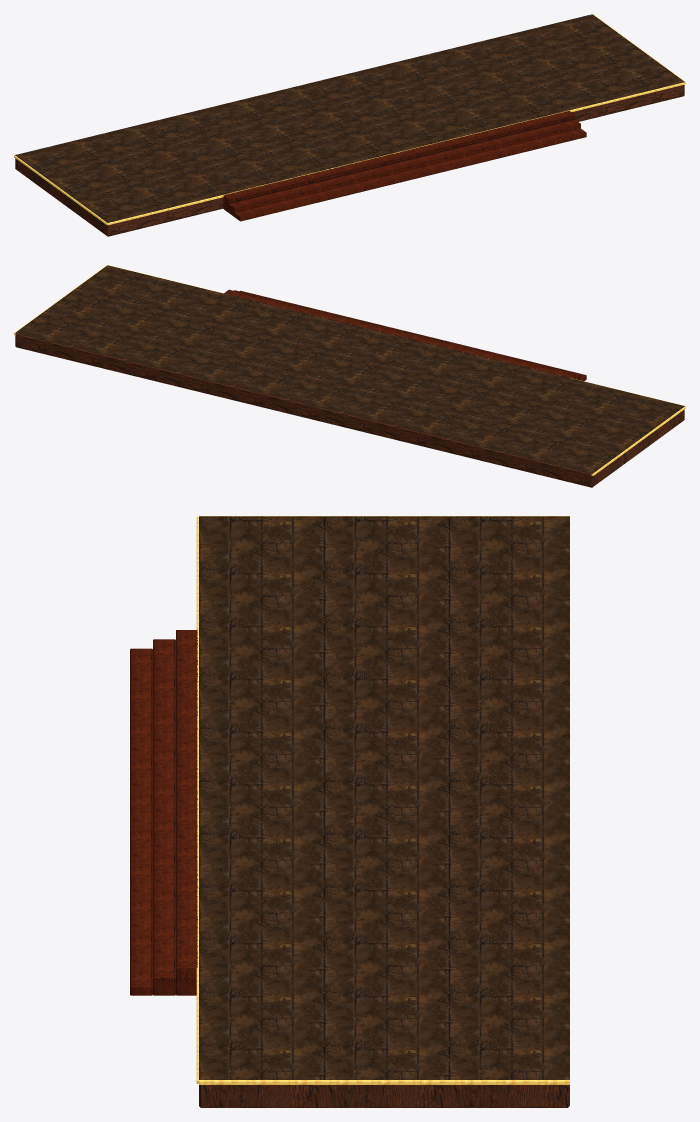
Rendered from sp_roof_stage.glb.
3 renders of one model, top to bottom at view 1: azimuth 30°, elevation 25°; view 2: azimuth 150°, elevation 25°; view 3: azimuth 270°, elevation 25°, orthographic. The views are drawn at different scales.
Parts seen in each view (by area): view 1: spire; view 2: spire; view 3: spire.
Part boxes in pixels (<box>): spire: <box>14,14,685,236</box>; spire: <box>14,265,685,487</box>; spire: <box>130,516,569,1107</box>.
Bounding box in the file's own units: 32.1 × 0.76 × 10.55.
4 materials, 4 textured.
